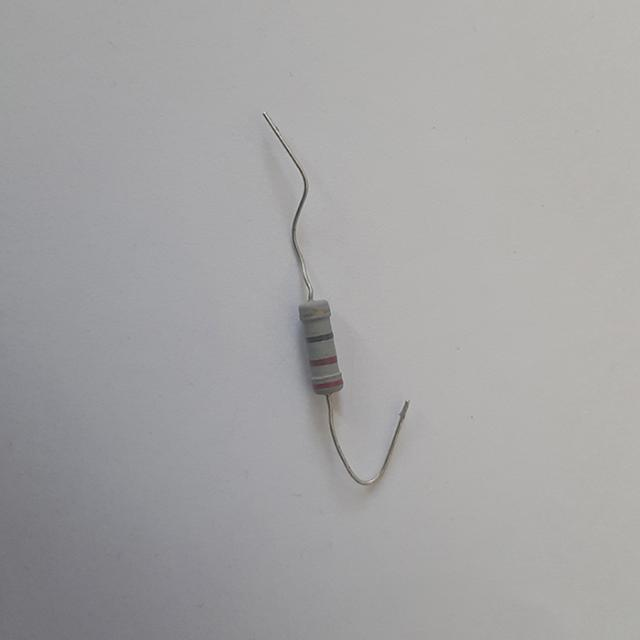brown: (306, 332, 332, 341)
gold: (302, 310, 329, 318)
red: (313, 377, 341, 388), (309, 356, 336, 365)
resistor: (288, 294, 347, 409)
